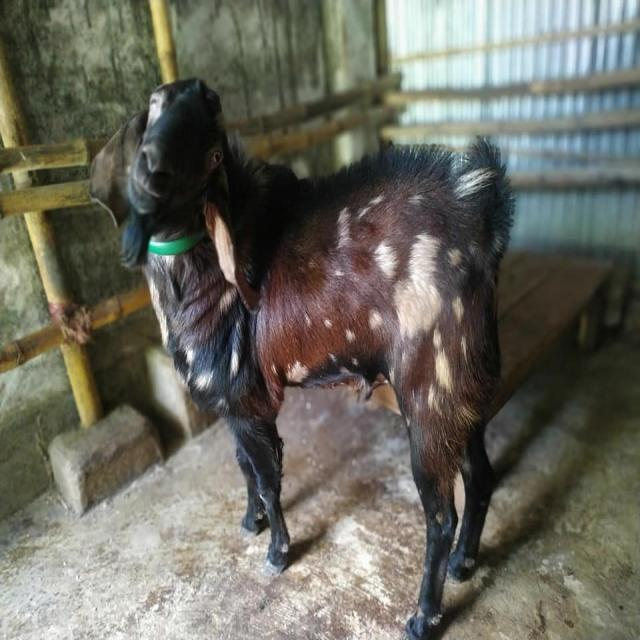Goat: (119, 75, 516, 637), (87, 107, 148, 227)
